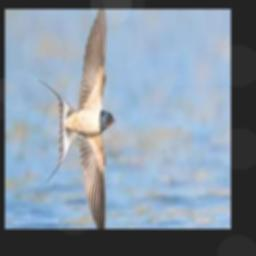Swallow: (37, 9, 115, 229)
